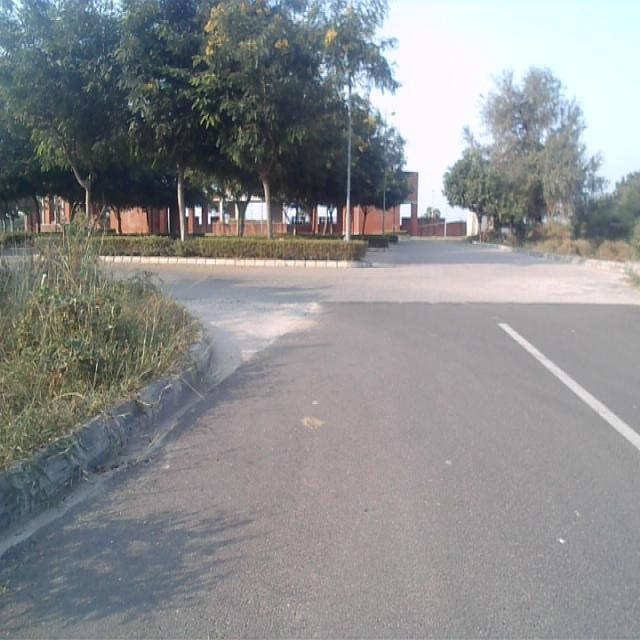lane: (0, 323, 640, 640)
